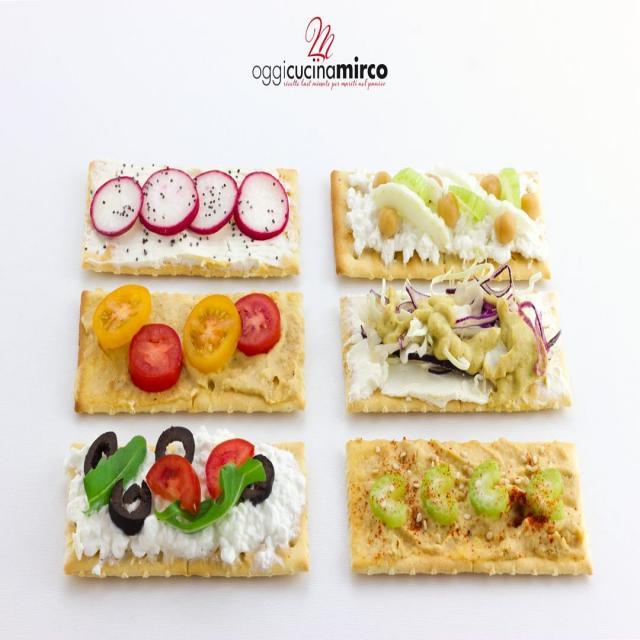Cracker: (329, 437, 613, 587), (59, 438, 318, 588), (332, 283, 587, 423), (67, 280, 316, 412), (321, 161, 559, 279), (78, 155, 302, 277)
